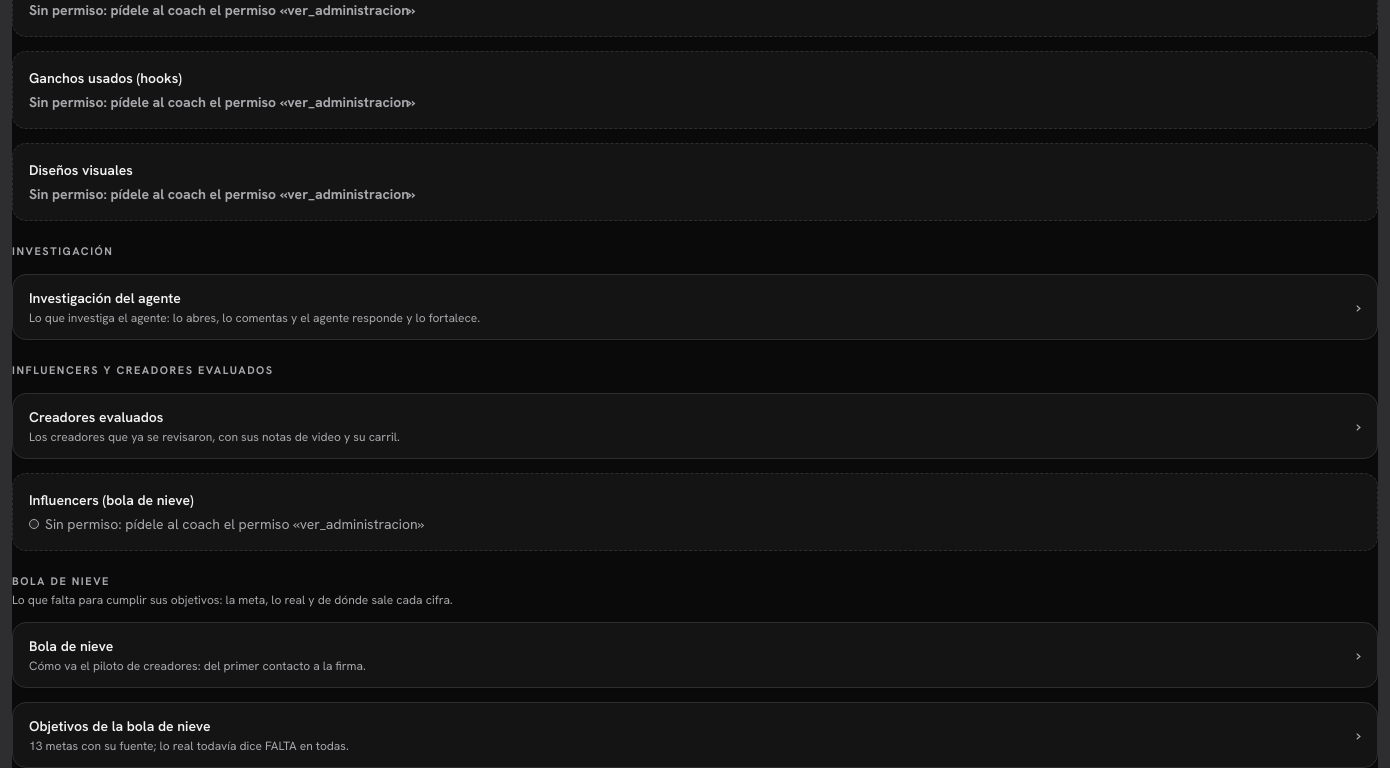
Test case: EstrategiasPage · orden de Bryan › Objetivos de la bola de nieve: meta con su fuente y lo real en FALTA, sin cero
The width and height of the screenshot is (1390, 768).
(page scrolled)
Click the button "Objetivos de la bola de nieve" at (120,726), box [13, 703, 1377, 767]
(page scrolled)
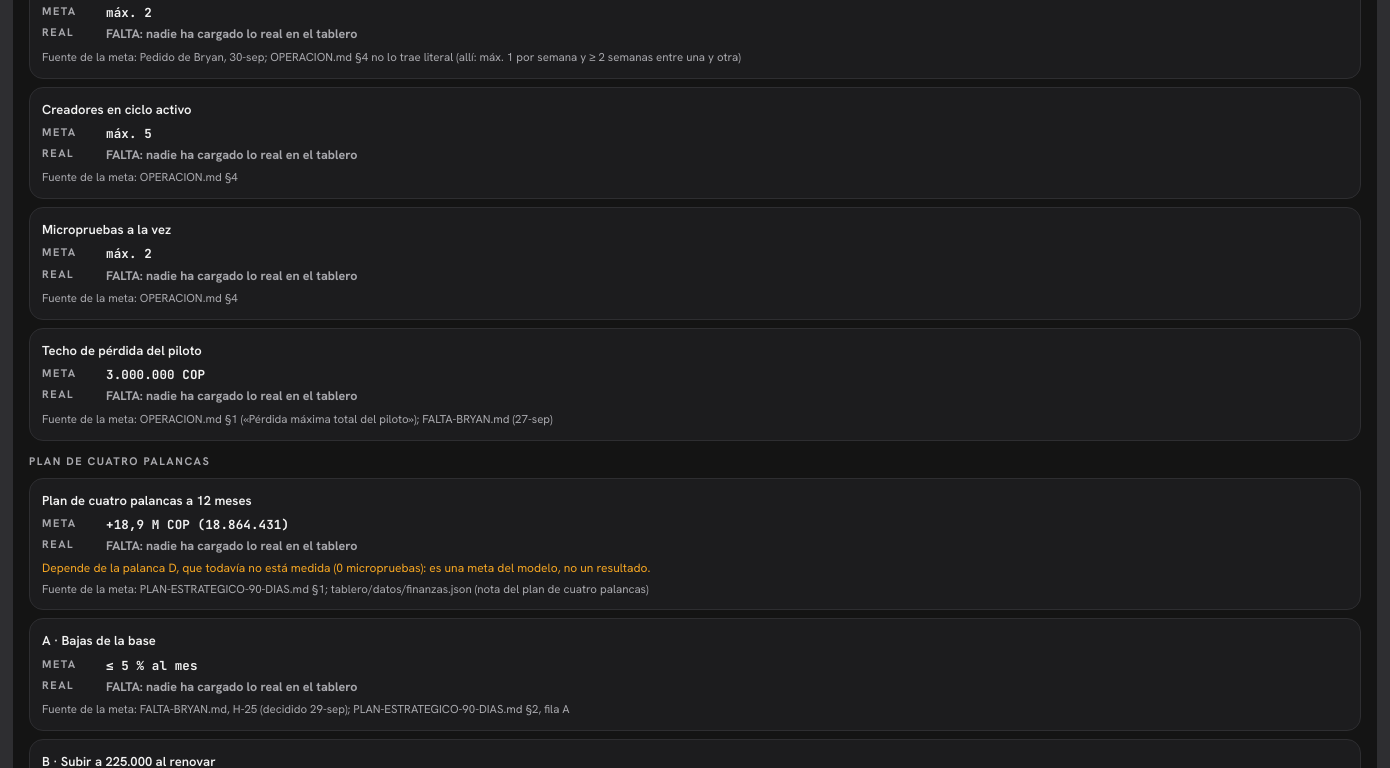
Expected: the list item "Techo de pérdida del piloto" shows "3.000.000 COP", [106, 366, 205, 383]
